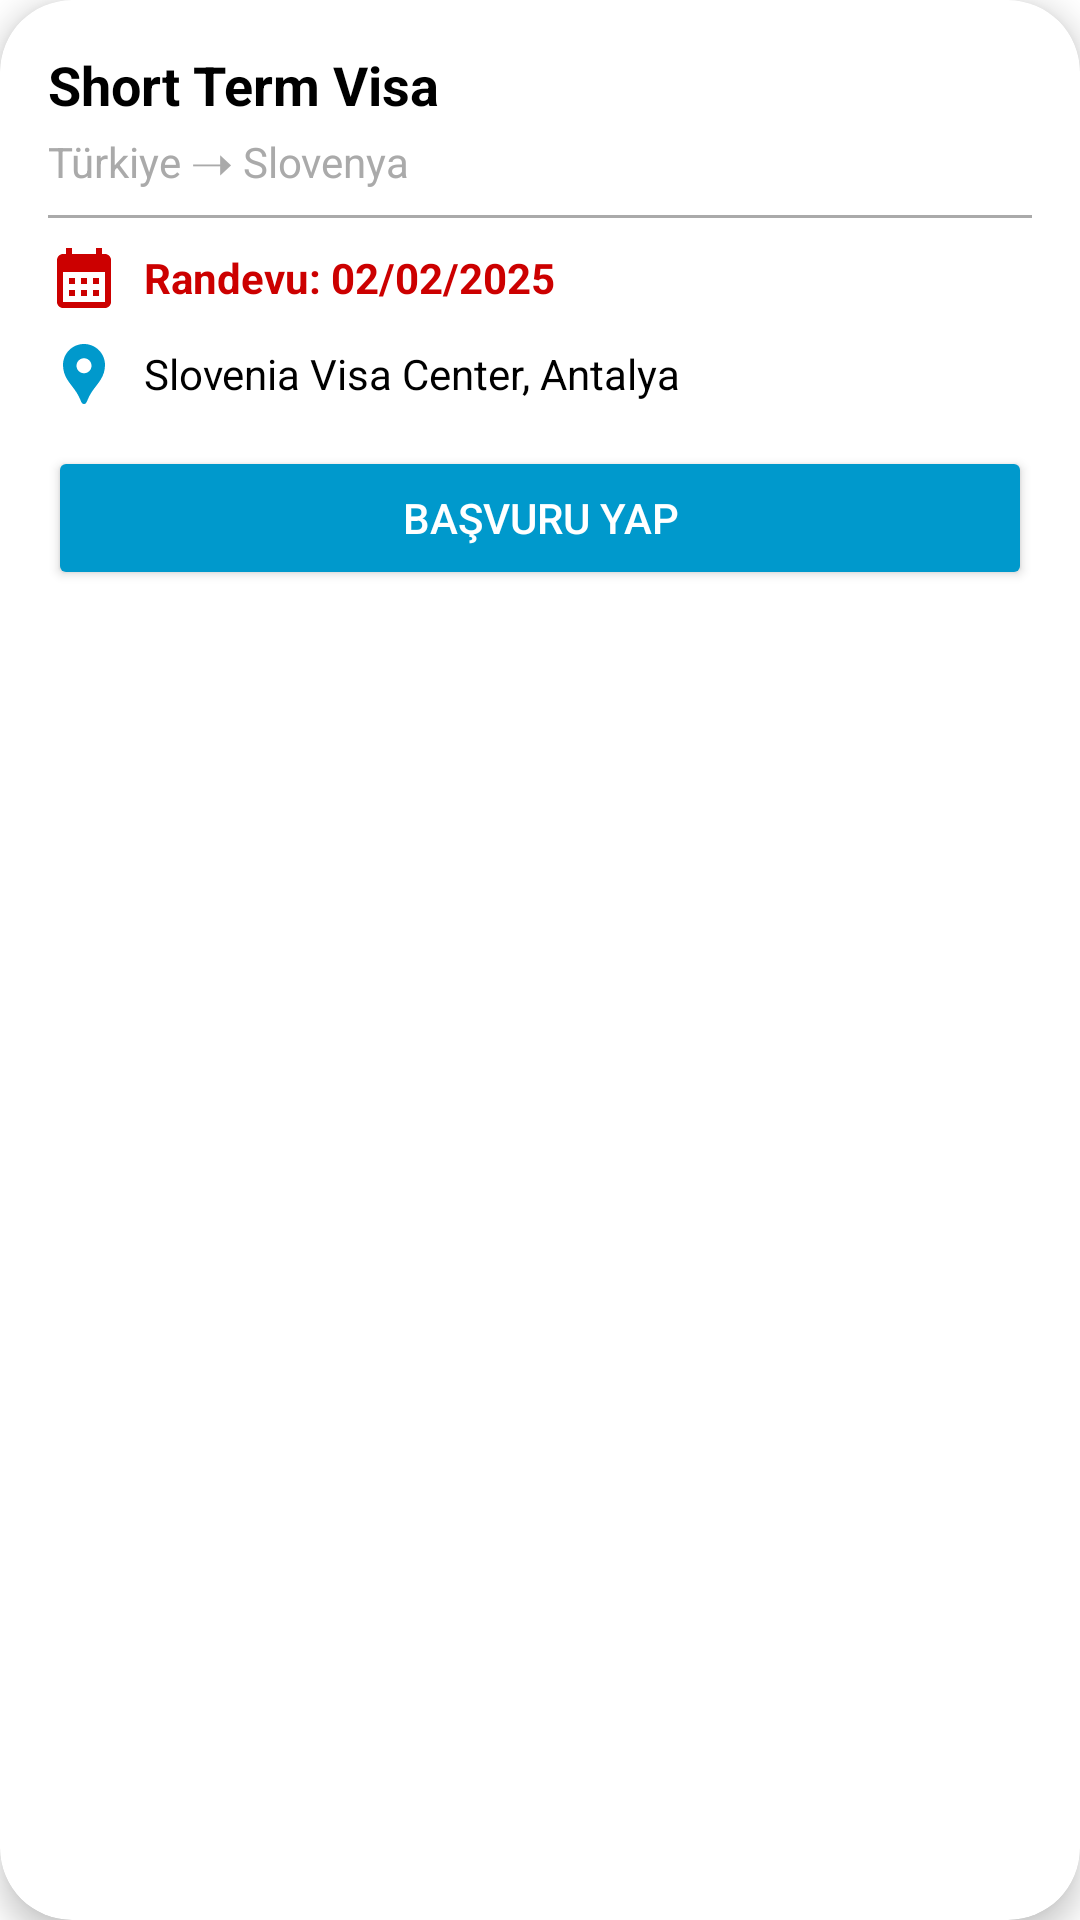

Locate icon controls on the screen. Image size 1080*1920, boxes as (x1=x1, y1=y1, x2=x2, y2=y2).
calendar: (x1=57, y1=248, x2=111, y2=308)
location pin: (x1=63, y1=344, x2=105, y2=404)
